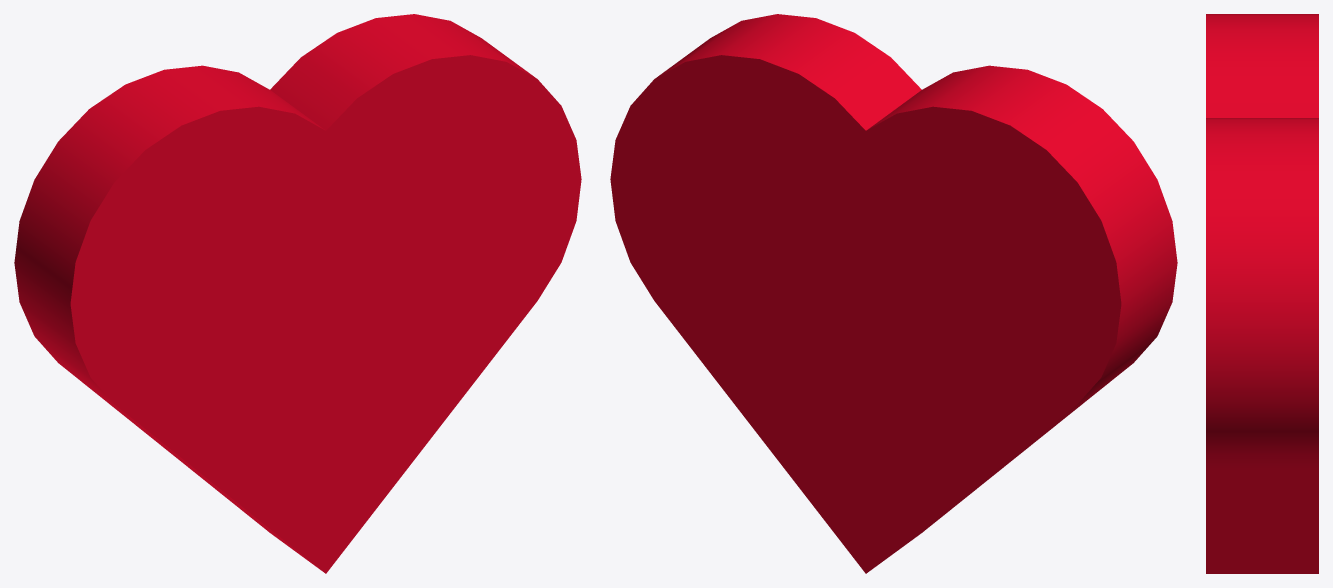
The model's file is HeartPickup.fbx.
3 renders of one model, left to right at view 1: azimuth 30°, elevation 25°; view 2: azimuth 150°, elevation 25°; view 3: azimuth 270°, elevation 25°, orthographic.
Visible parts, largest first — view 1: HeartPickup; view 2: HeartPickup; view 3: HeartPickup.
Part boxes in pixels (box(x1,y1,x2,y2)): HeartPickup: box(14, 14, 581, 573); HeartPickup: box(610, 14, 1177, 573); HeartPickup: box(1206, 14, 1318, 573).
Size of the model in its own units: 341 by 312 by 64.92.
